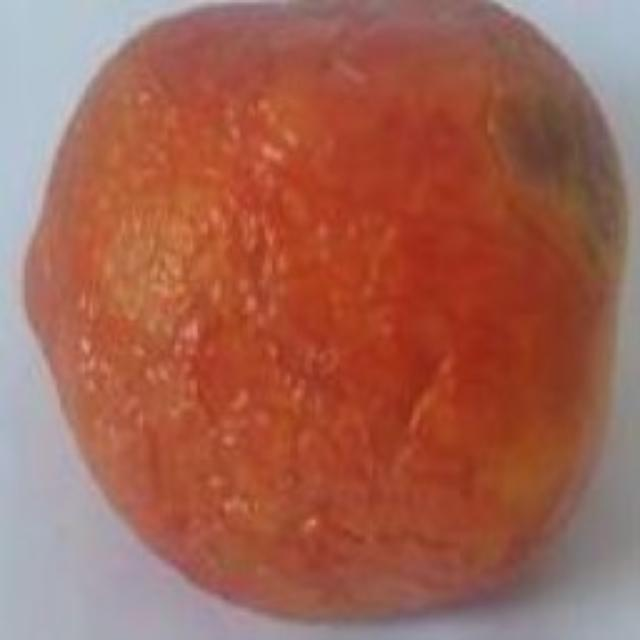defect: (20, 0, 627, 625)
